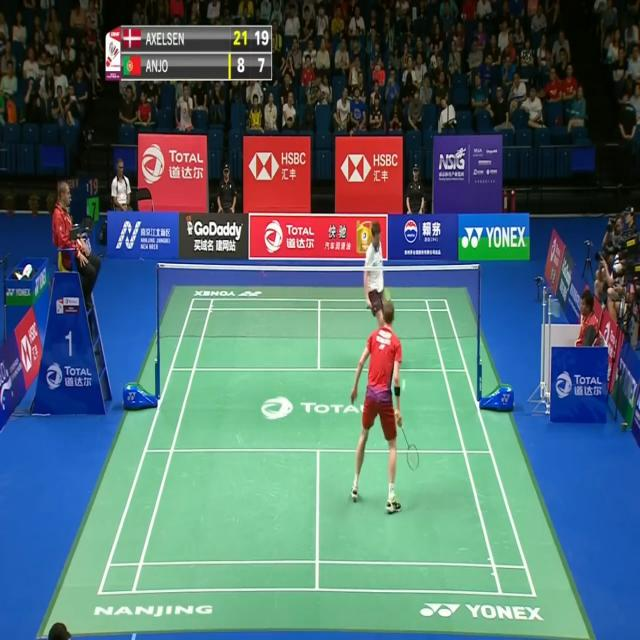Player1: (350, 301, 420, 515)
Player2: (363, 220, 391, 324)
